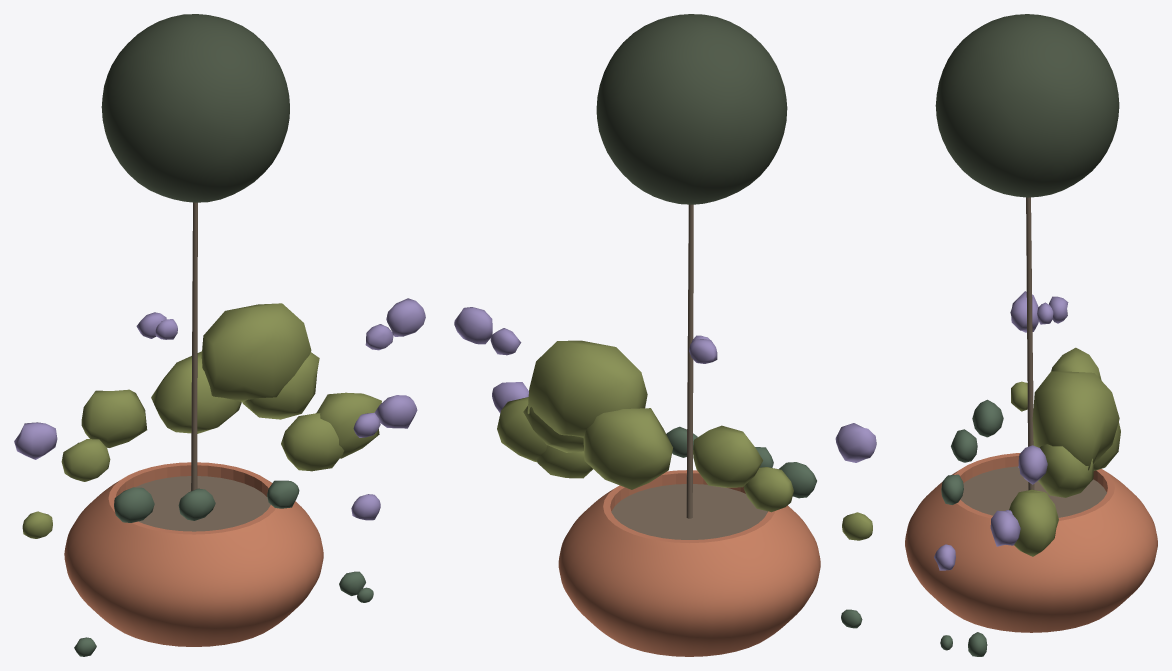
File: NPR_07_2032__MOD__VegetationElements__Topiary__BowlStandard__Var-02__.glb
3 views of the same model, side by side, from view 1: azimuth 30°, elevation 25°; view 2: azimuth 150°, elevation 25°; view 3: azimuth 270°, elevation 25° (orthographic). The views are drawn at different scales.
Visible parts, largest first — view 1: NPR_07_2032__MOD__VegetationElements__Topiary__BowlStandard_; view 2: NPR_07_2032__MOD__VegetationElements__Topiary__BowlStandard_; view 3: NPR_07_2032__MOD__VegetationElements__Topiary__BowlStandard_.
Part boxes in pixels (left/top/right/bottom): NPR_07_2032__MOD__VegetationElements__Topiary__BowlStandard_: left=14, top=14, right=425, bottom=656; NPR_07_2032__MOD__VegetationElements__Topiary__BowlStandard_: left=454, top=14, right=876, bottom=656; NPR_07_2032__MOD__VegetationElements__Topiary__BowlStandard_: left=905, top=14, right=1157, bottom=656.
Bounding box in the file's own units: 1.21 × 1.65 × 0.66.
